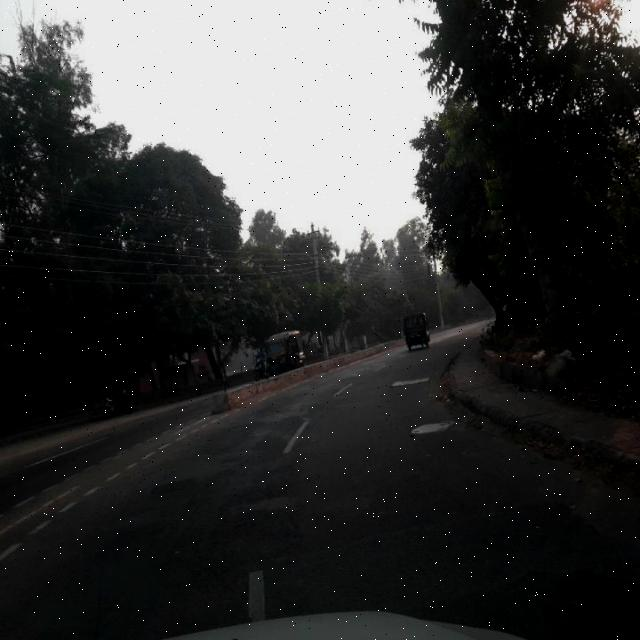D50: (407, 415, 459, 438)
